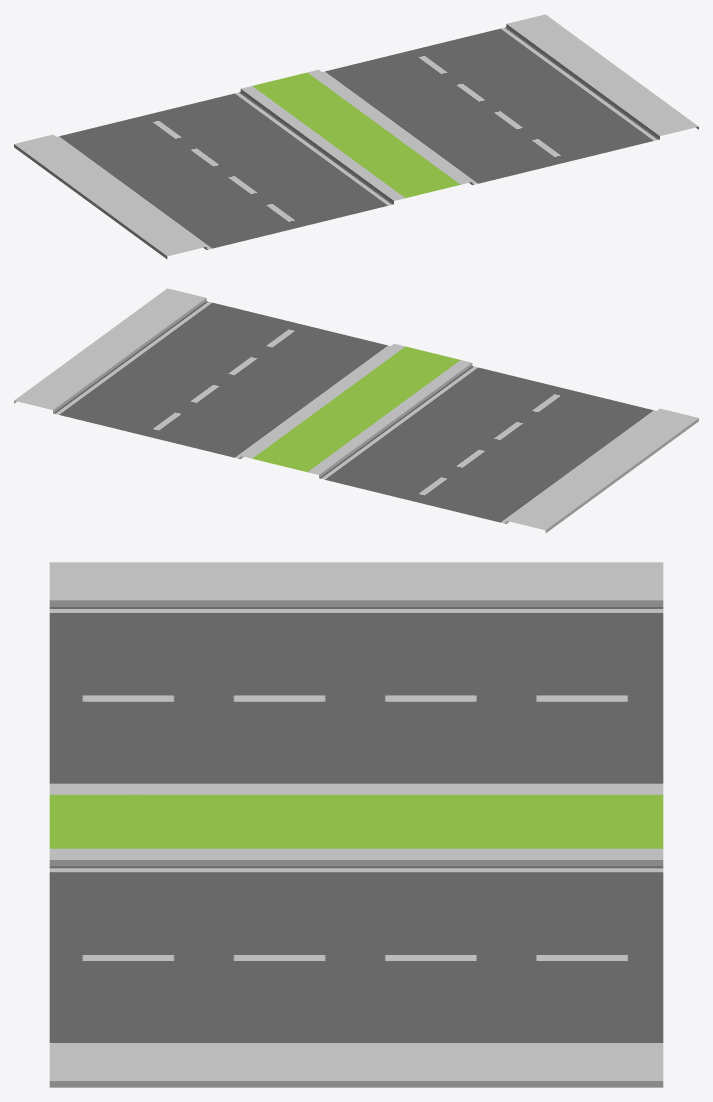
The model's file is DoubleWay Road Tile.fbx.
3 renders of one model, top to bottom at view 1: azimuth 30°, elevation 25°; view 2: azimuth 150°, elevation 25°; view 3: azimuth 270°, elevation 25°, orthographic. The views are drawn at different scales.
Visible parts, largest first — view 1: DoubleWay Road Tile; view 2: DoubleWay Road Tile; view 3: DoubleWay Road Tile.
Part boxes in pixels (x1=…): DoubleWay Road Tile: x1=14, y1=14, x2=698, y2=258; DoubleWay Road Tile: x1=14, y1=288, x2=698, y2=532; DoubleWay Road Tile: x1=49, y1=562, x2=663, y2=1087.
Size of the model in its own units: 3400 by 20 by 1700.
